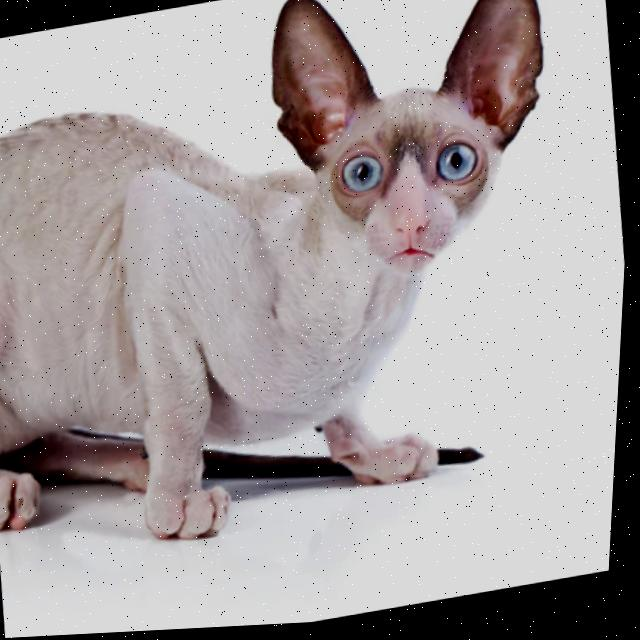Cornish Rex: (0, 0, 609, 582)
